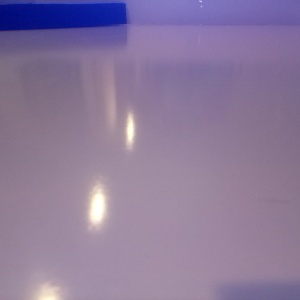zone: (1, 3, 127, 31)
